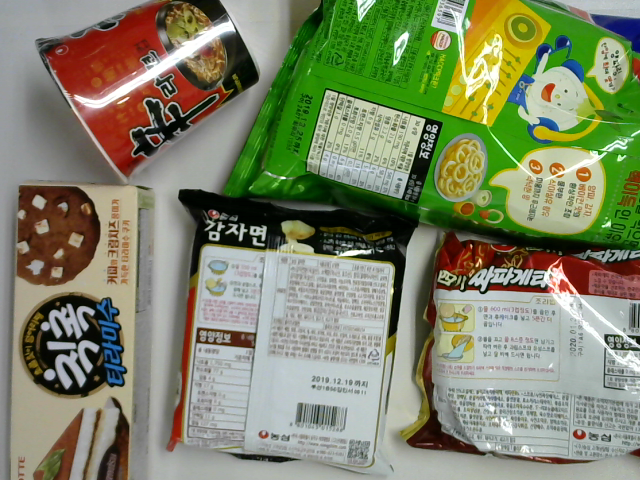Chicchok_Tiramisu: (5, 179, 158, 480)
Oninon_Ring: (221, 1, 640, 260)
Potato: (166, 186, 422, 480)
Sichuan_Chapaghetti: (403, 227, 640, 470)
Sinramen_small: (34, 2, 262, 189)
